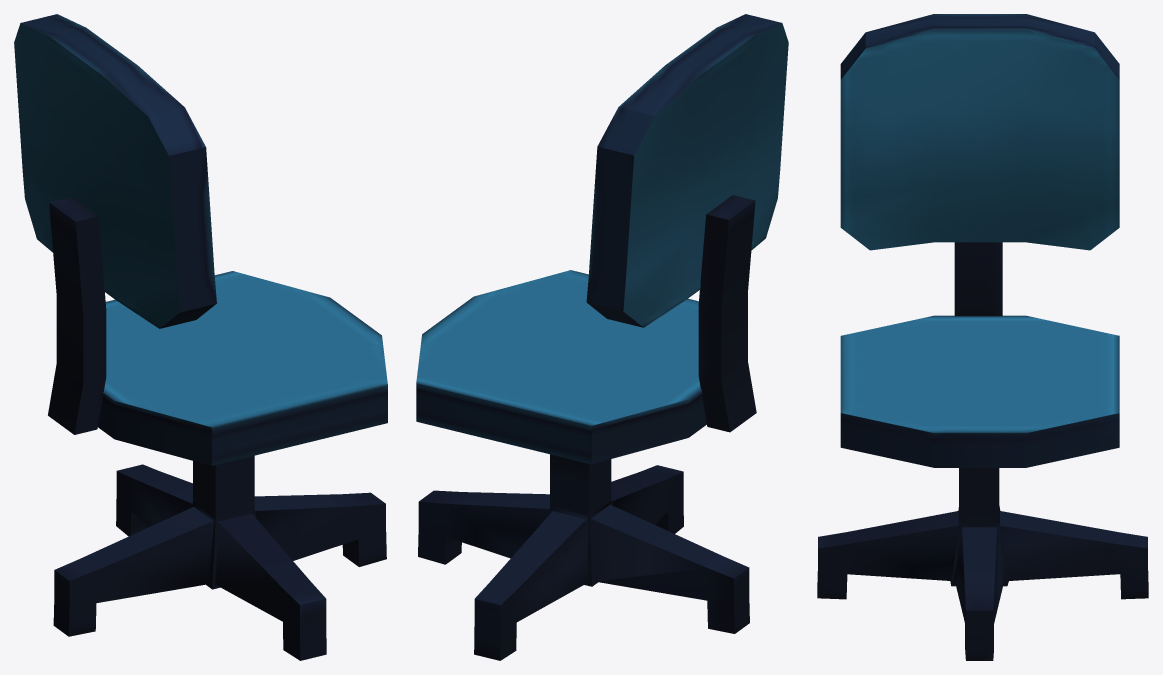
The model's file is Tx_prop_office chair_4.fbx.
The picture shows the model from 3 angles, left to right: view 1: azimuth 30°, elevation 25°; view 2: azimuth 150°, elevation 25°; view 3: azimuth 270°, elevation 25°; orthographic projection. The views are drawn at different scales.
Visible parts, largest first — view 1: Tx_prop_office_chair_9; view 2: Tx_prop_office_chair_9; view 3: Tx_prop_office_chair_9.
Boxes of the visible parts, bbox=[...] form: Tx_prop_office_chair_9: bbox=[14, 14, 387, 660]; Tx_prop_office_chair_9: bbox=[416, 14, 788, 660]; Tx_prop_office_chair_9: bbox=[817, 14, 1148, 660].
Size of the model in its own units: 2.76 by 4.74 by 2.76.
Materials: 1 (1 with a texture image).
